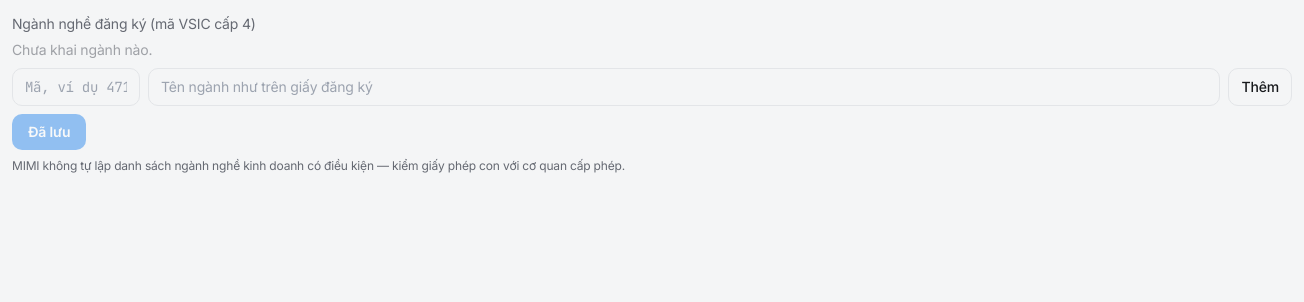
Test: Cài đặt → Ngành nghề VSIC cấp 4 (12/10/2026) › thêm ngành, lưu qua to-khai; hộ kinh doanh thấy GỢI Ý nhóm và chỉ ghi khi bấm xác nhận
Expected: the text "Chưa khai ngành nào." is shown, [12,41,152,58]
In the field named "Mã ngành": (76, 87) [12,68,140,106], type "4711"
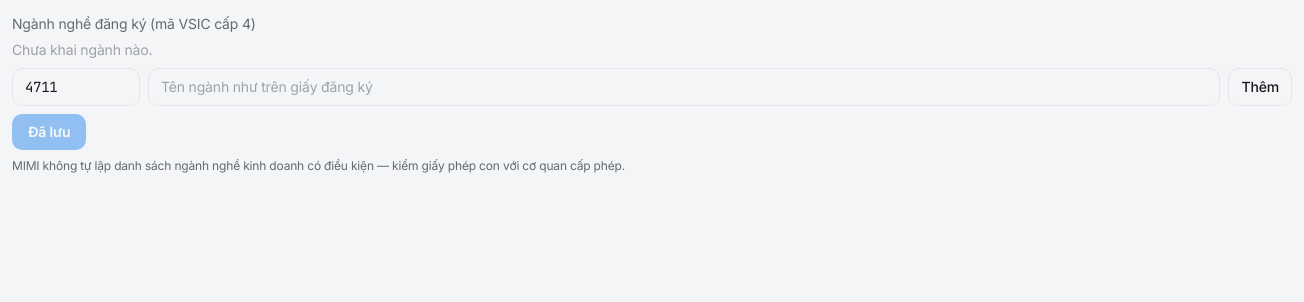
In the field labelled "Tên ngành": (684, 87) [148,68,1220,106], type "Bán lẻ tổng hợp"
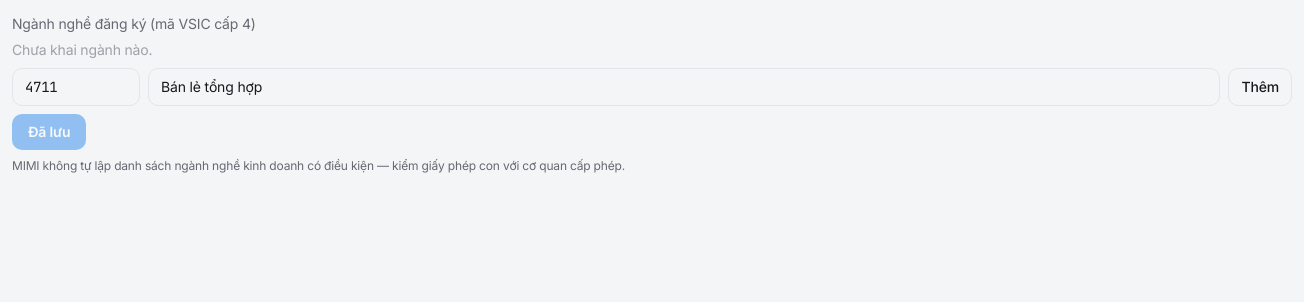
Click the button "Thêm": click(1260, 87) [1228,68,1292,106]
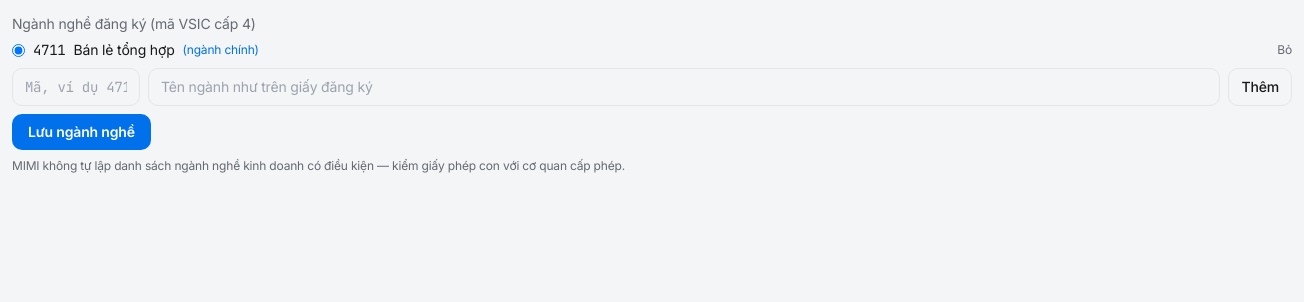
Now the text "(ngành chính)" is shown, box [182,42,259,58]
Click the button "Lưu ngành nghề": click(81, 132) [12,114,151,150]
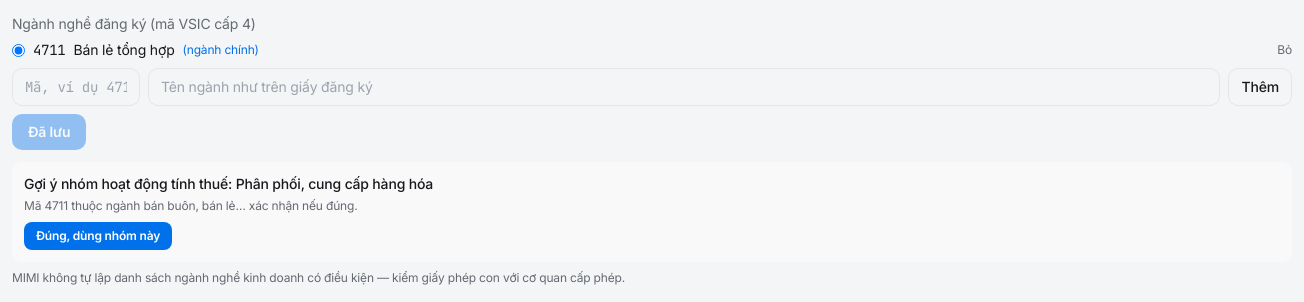
Now the text "Gợi ý nhóm hoạt động tính thuế: Phân phối, cung cấp hàng hóa" is shown, box [24,175,433,192]
Click the button "Đúng, dùng nhóm này": click(98, 236) [24,222,172,250]
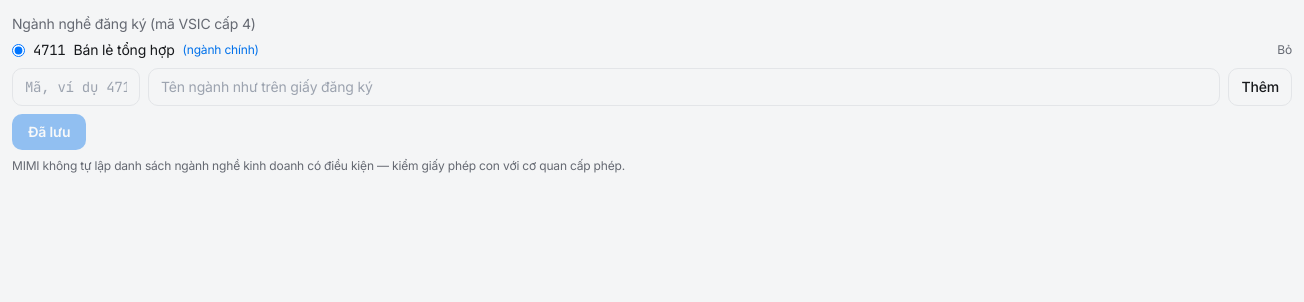
Now the text "Gợi ý nhóm hoạt động tính thuế" is gone
